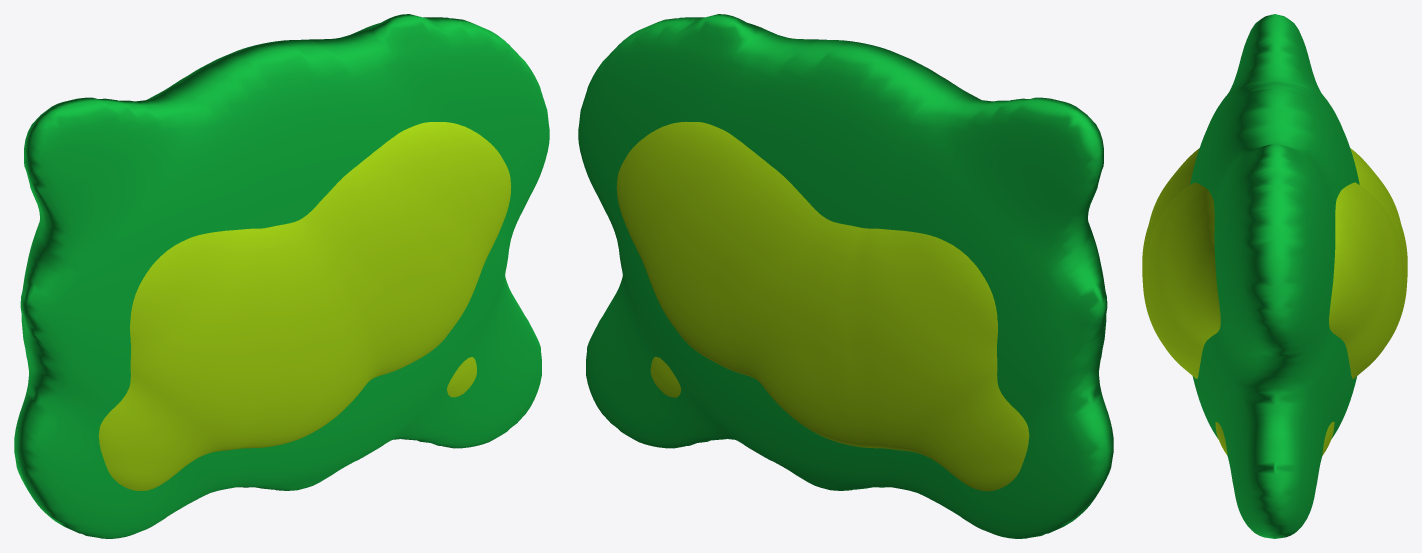
File: Mucus1.fbx
3 renders of one model, left to right at view 1: azimuth 30°, elevation 25°; view 2: azimuth 150°, elevation 25°; view 3: azimuth 270°, elevation 25°, orthographic. The views are drawn at different scales.
Visible parts, largest first — view 1: root (×2); view 2: root (×2); view 3: root (×2).
Boxes of the visible parts, x1,y1,x2,y2 form: root (×2): (14, 14, 549, 538); root (×2): (578, 14, 1113, 538); root (×2): (1142, 14, 1407, 538).
Size of the model in its own units: 1.1 by 0.8936 by 0.5917.
